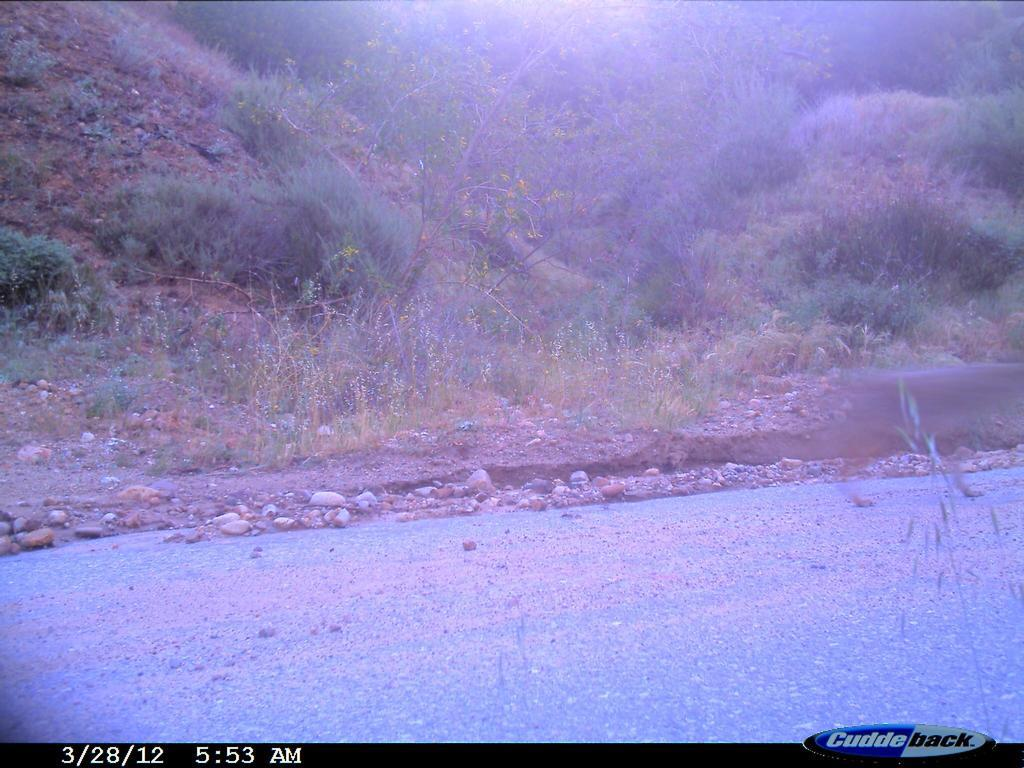coyote: (803, 359, 1023, 514)
